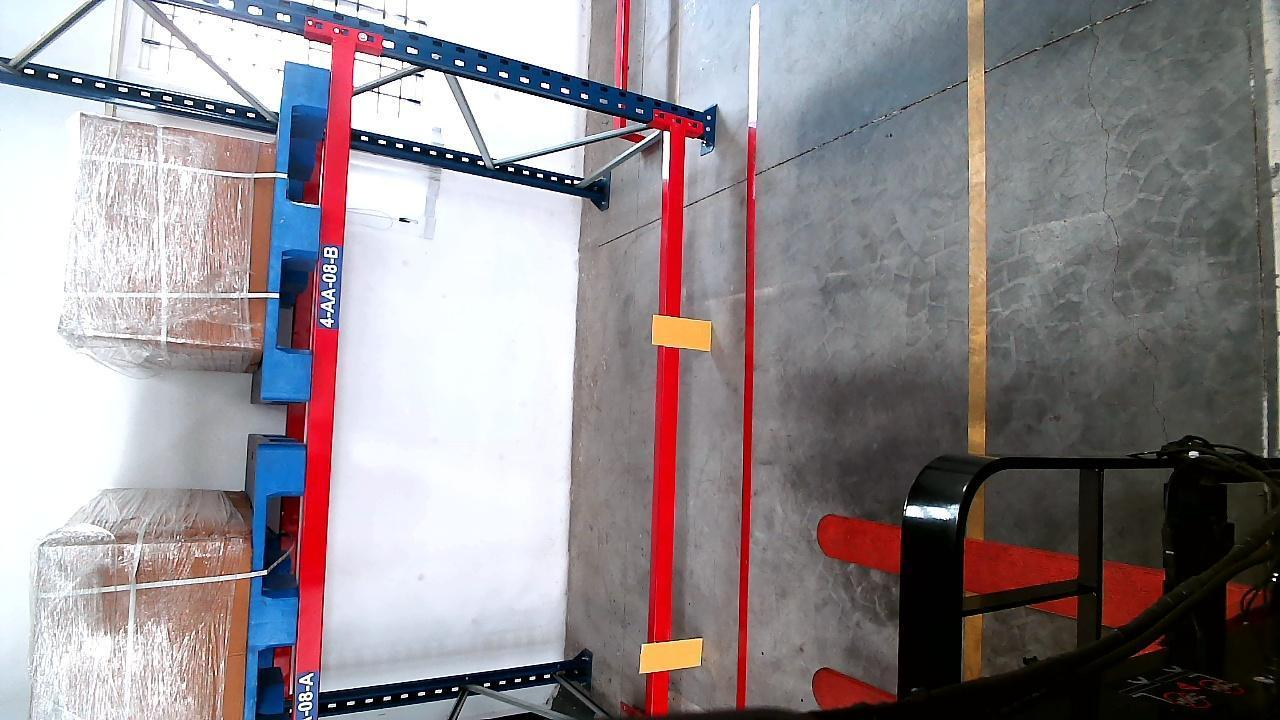h_rack: (297, 44, 354, 720), (650, 131, 689, 713)
orange_strip: (641, 636, 705, 673), (654, 315, 712, 348)
red_line: (735, 126, 759, 706)
small_pallet: (265, 56, 326, 402), (247, 448, 305, 713)
yellow_line: (966, 0, 992, 446)
